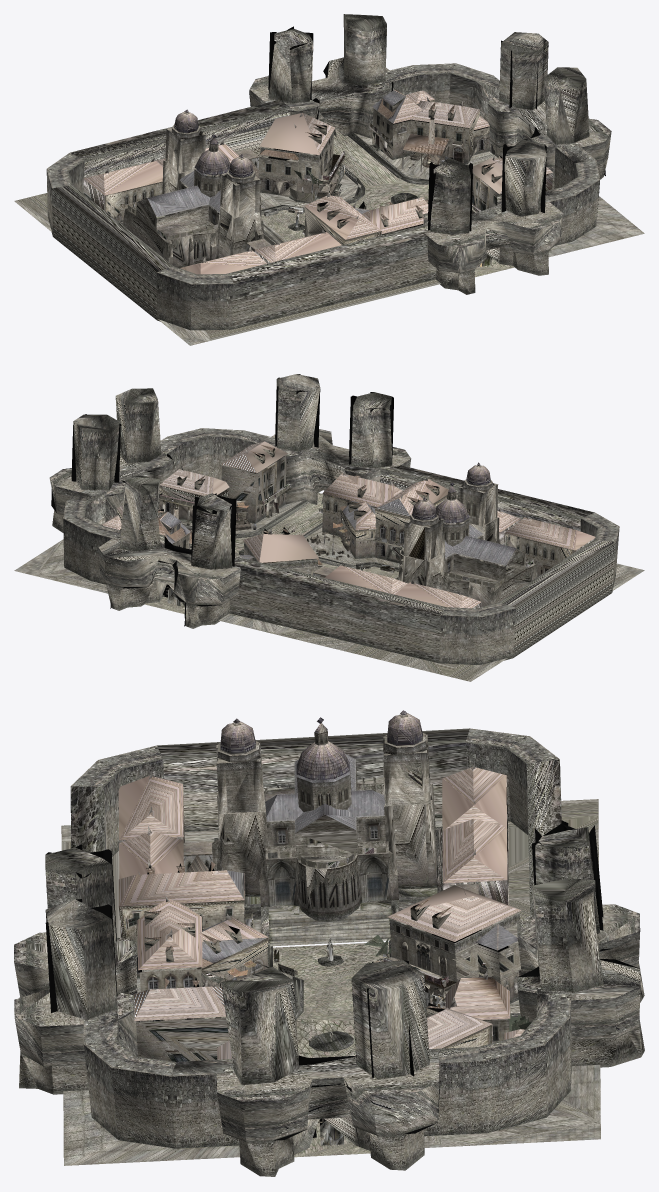
File: oldtown_lo.glb
3 renders of one model, top to bottom at view 1: azimuth 30°, elevation 25°; view 2: azimuth 150°, elevation 25°; view 3: azimuth 270°, elevation 25°, orthographic. The views are drawn at different scales.
Bounding box in the file's own units: 2.24 × 0.5807 × 1.65.
15 materials, 14 textured.
